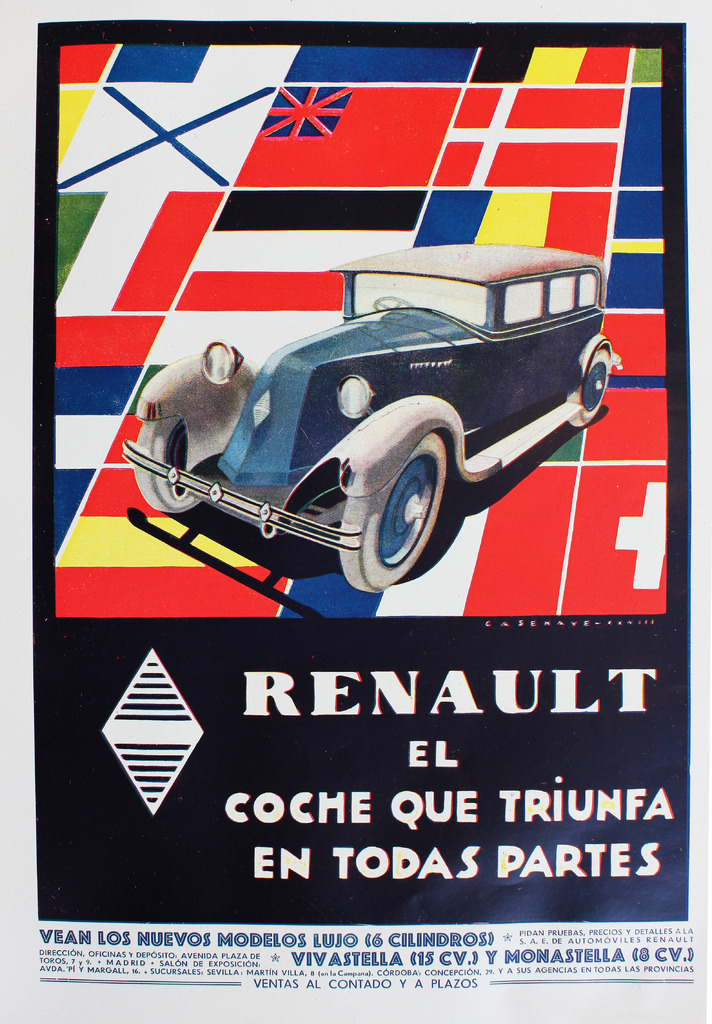Car: (111, 234, 610, 589)
